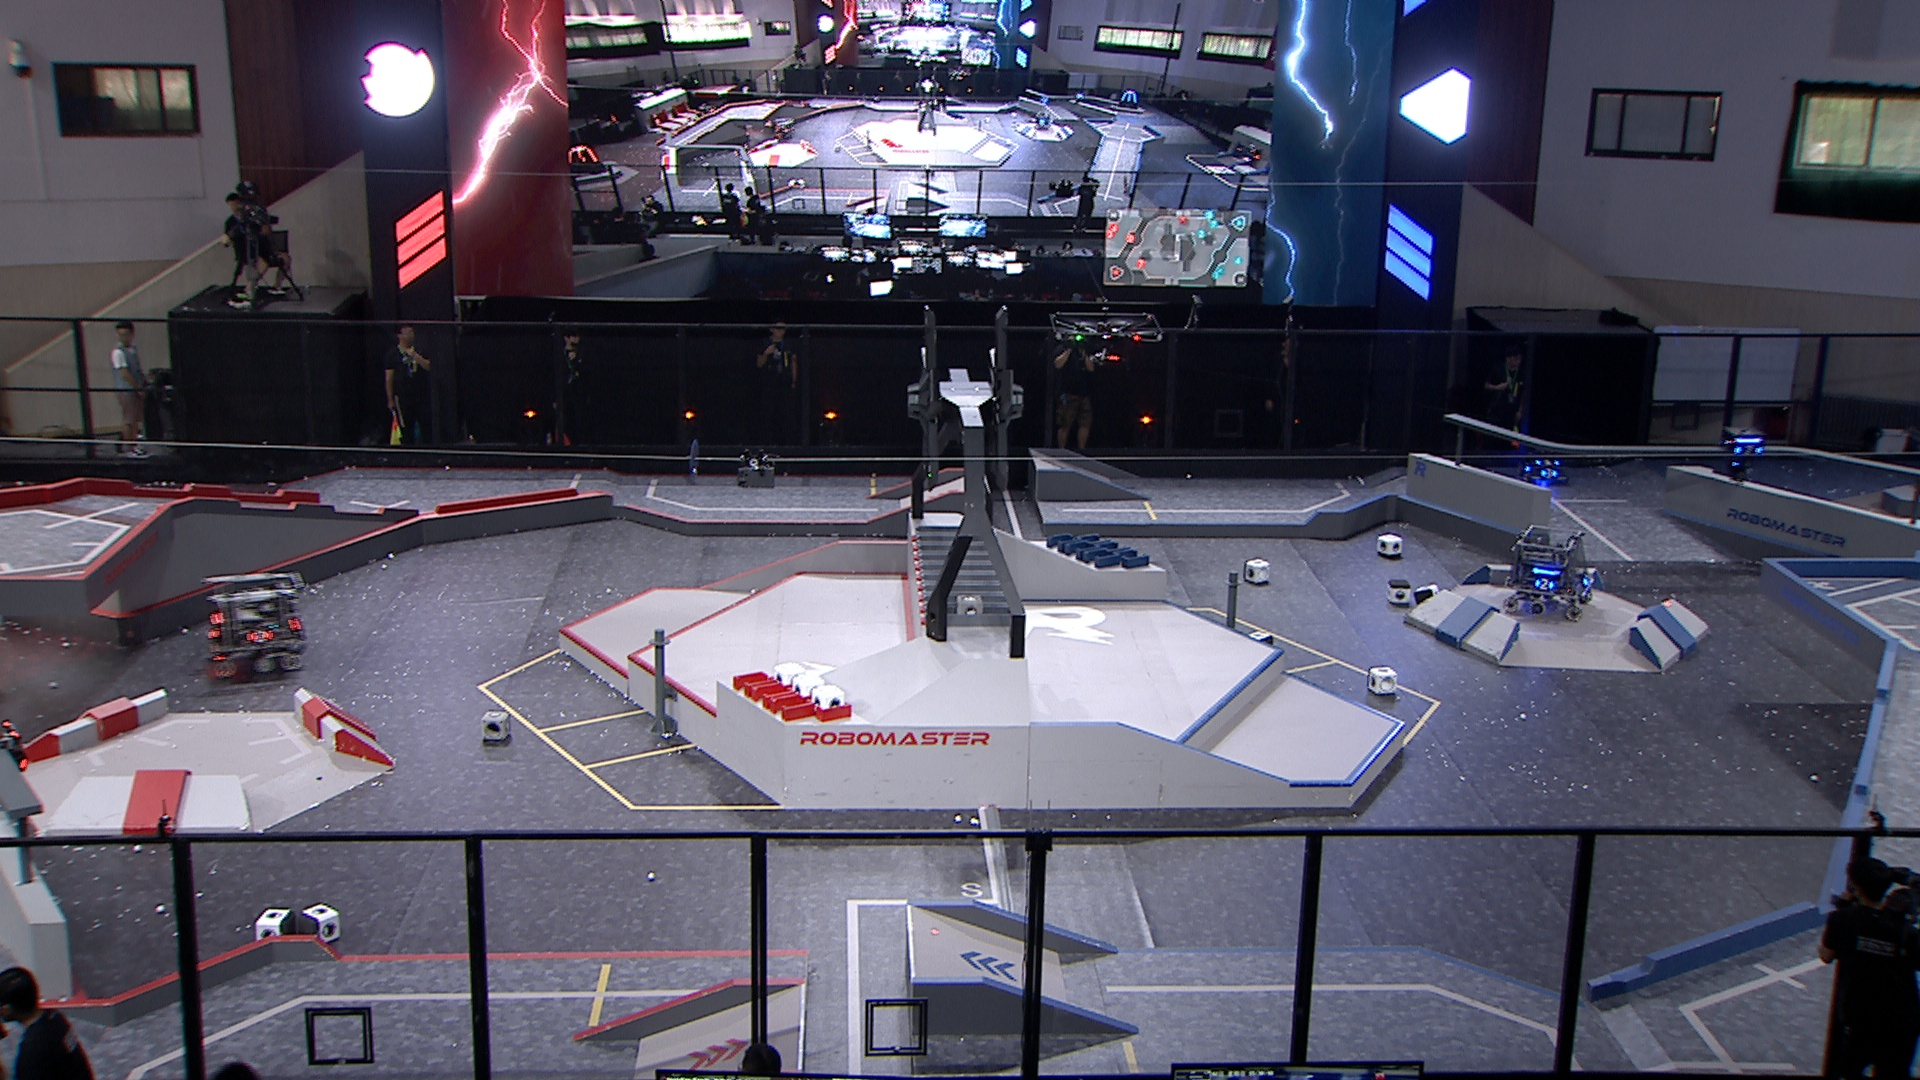armor: (247, 626, 276, 647), (1731, 442, 1764, 460), (1534, 452, 1564, 467), (1532, 575, 1555, 591), (1581, 571, 1596, 591), (1539, 465, 1560, 479)
car: (202, 571, 311, 679), (1498, 520, 1602, 622), (1516, 443, 1571, 487)
ignore: (564, 142, 607, 179), (767, 116, 795, 142), (1112, 88, 1143, 109), (1234, 142, 1262, 166), (1030, 109, 1051, 131)
watcher: (1712, 423, 1766, 481)
